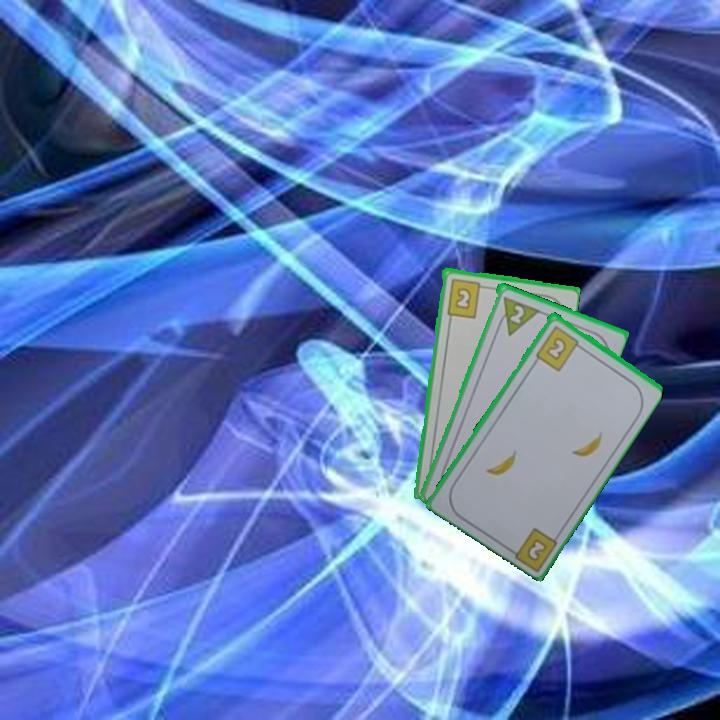2b: (532, 322, 586, 373), (443, 275, 489, 320), (525, 537, 548, 562)
2p: (506, 301, 527, 326)
